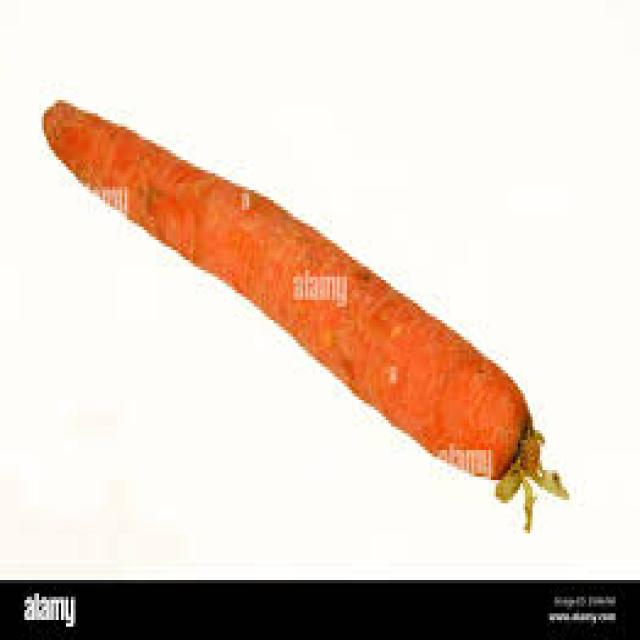carrot: (39, 93, 569, 530)
